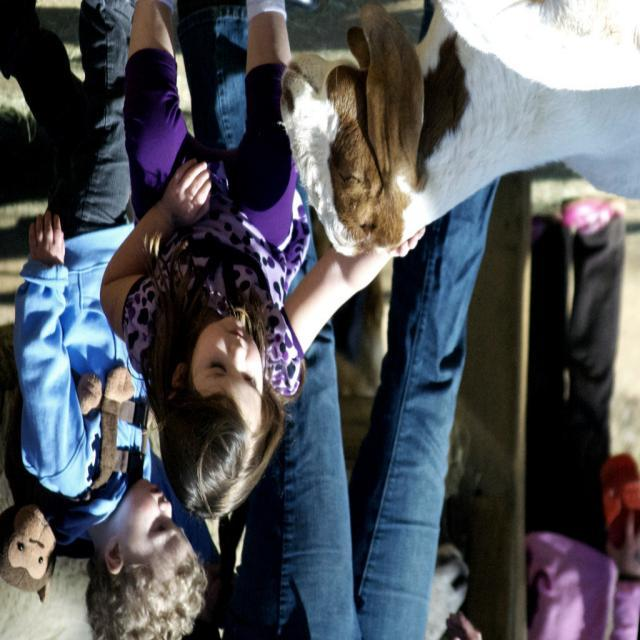Goat: (278, 3, 640, 260)
